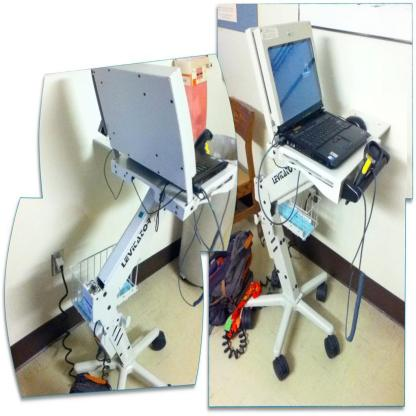board: (268, 32, 376, 168), (192, 148, 228, 189)
